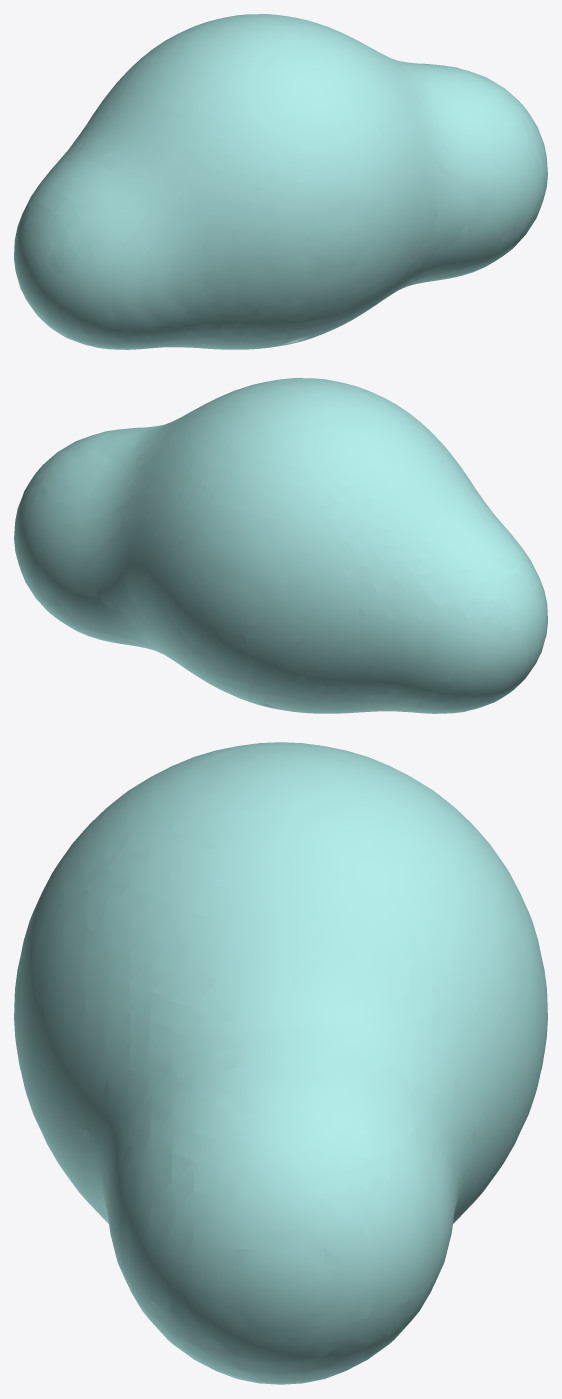
File: cloud-smoth-model.gltf
3 views of the same model, one above another, from view 1: azimuth 30°, elevation 25°; view 2: azimuth 150°, elevation 25°; view 3: azimuth 270°, elevation 25° (orthographic). The views are drawn at different scales.
Parts seen in each view (by area): view 1: Cloud; view 2: Cloud; view 3: Cloud.
Part boxes in pixels (x1,y1,x2,y2): Cloud: [14, 14, 547, 349]; Cloud: [14, 378, 547, 713]; Cloud: [14, 742, 547, 1384].
Bounding box in the file's own units: 2.18 × 1.24 × 1.23.
